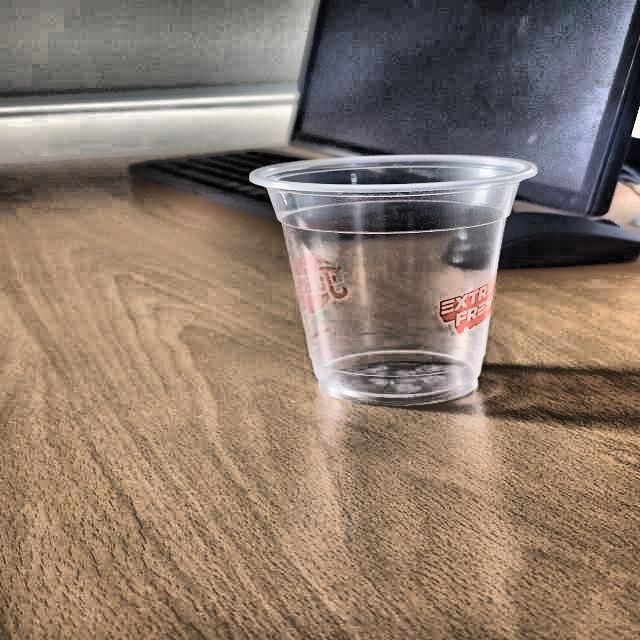plastic cup: (248, 150, 538, 408)
